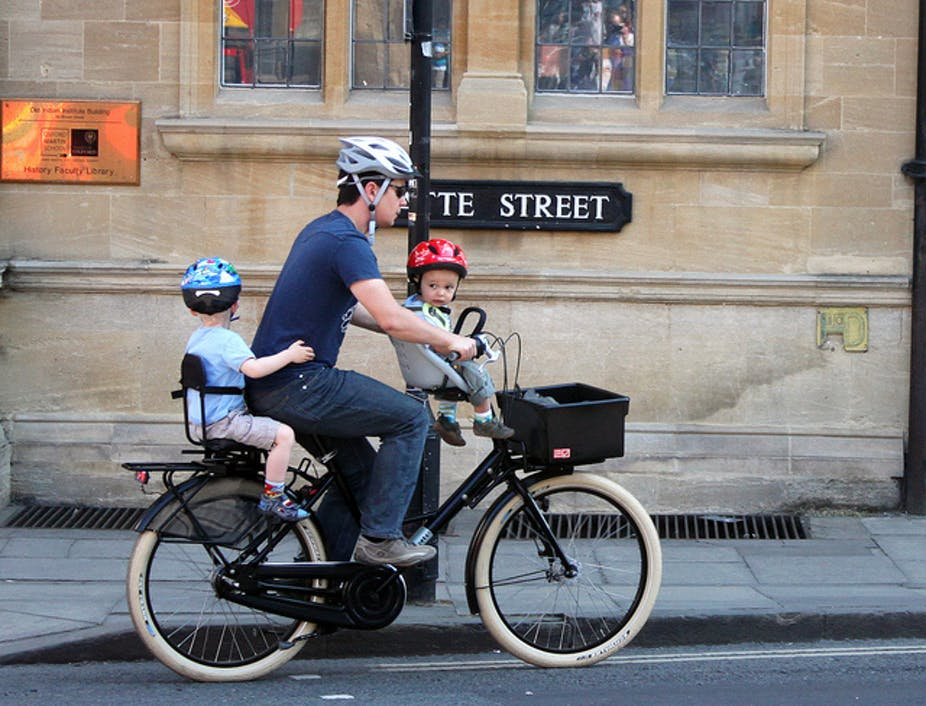helmet: (337, 137, 422, 227), (406, 239, 467, 306), (182, 259, 243, 324)
